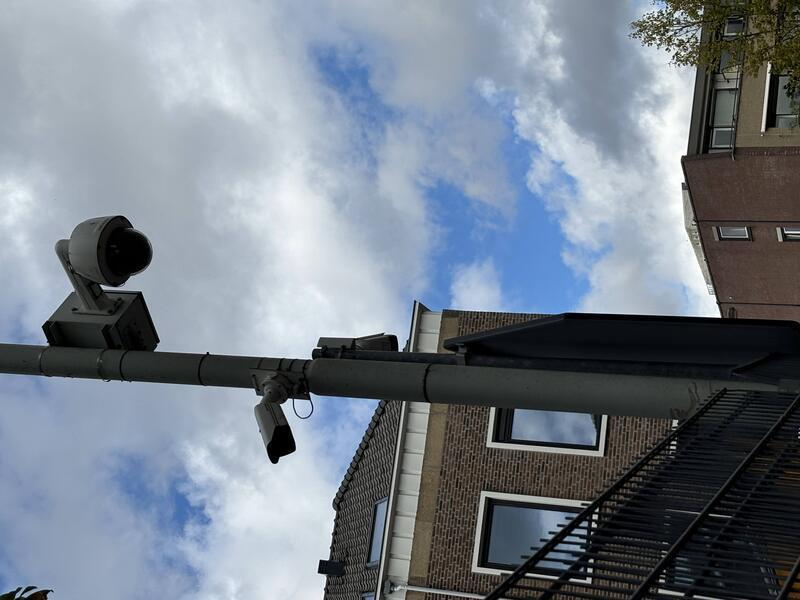bullet: (129, 248, 202, 302)
dome: (313, 66, 391, 156)
